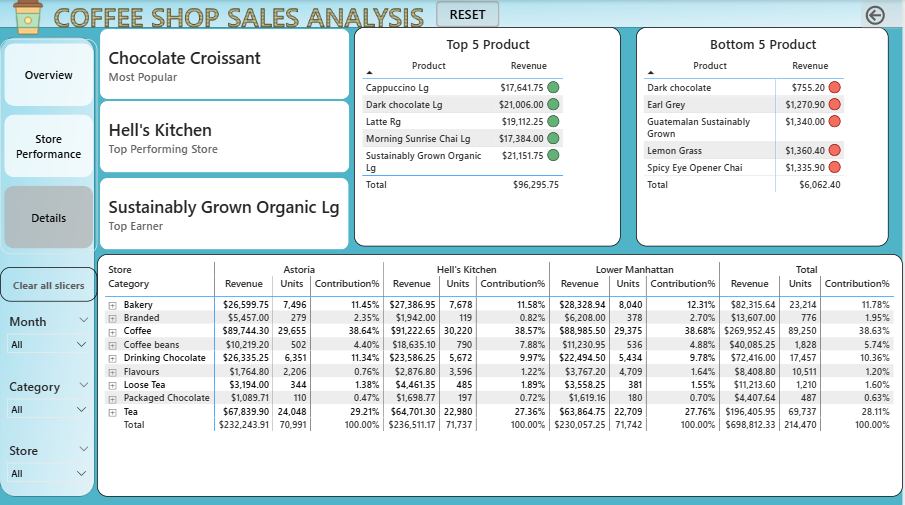

The dashboard page shown, as its layout file describes it:
{"tool":"powerbi","page":{"name":"Details","canvas":[1280,720],"ordinal":2},"visuals":[{"type":"tableEx","title":"Top 5 Product","fields":{"Values":["Product_Details.Product Detail","DAX Measure.Total Revenue"]},"box":[502.3,38.5,378.1,311.1],"z":0},{"type":"pivotTable","title":"Bottom 5 Product","fields":{"Rows":["Product_Details.Product Detail"],"Values":["DAX Measure.Total Revenue"]},"box":[901.9,38.5,358.2,311.1],"z":1000},{"type":"cardVisual","fields":{"Data":["DAX Measure.Top Earner"]},"box":[121.6,232.4,392,141.2],"z":2000},{"type":"cardVisual","fields":{"Data":["DAX Measure.Most Popular"]},"box":[121.6,21.5,393.3,139.4],"z":3000},{"type":"pivotTable","fields":{"Columns":["Store.Store Location"],"Rows":["Product_Details.Product Category","Product_Details.Product Detail"],"Values":["DAX Measure.Total Revenue","DAX Measure.Total QTY Sold","DAX Measure.Category Contribution %"]},"box":[137,359.6,1142,343.9],"z":4000},{"type":"cardVisual","fields":{"Data":["DAX Measure.Top Performing Store"]},"box":[121.6,123.4,393.3,141.2],"z":5000},{"type":"pageNavigator","box":[0,55.6,138,304.8],"z":6000},{"type":"slicer","fields":{"Values":["Date.Month Name"]},"box":[0,438.1,138.4,91.3],"z":7000},{"type":"slicer","fields":{"Values":["Product_Details.Product Category"]},"box":[0,529.4,138.4,91.3],"z":8000},{"type":"slicer","fields":{"Values":["Store.Store Location"]},"box":[0,620.7,138.4,91.3],"z":9000},{"type":"actionButton","box":[0,379,138,49],"z":10000},{"type":"actionButton","box":[1220.1,1.4,59.9,40],"z":11000},{"type":"actionButton","box":[617.9,1.4,89.9,37.1],"z":12000}]}

Visuals, with their boxes in screenshot pixels (x1, y1, x2, y2), scaled from the page's 1280x720 canvas onto the 905x505 screenshot:
"Top 5 Product" tableEx: (x1=355, y1=27, x2=622, y2=245)
"Bottom 5 Product" pivotTable: (x1=638, y1=27, x2=891, y2=245)
cardVisual - DAX Measure.Top Earner: (x1=86, y1=163, x2=363, y2=262)
cardVisual - DAX Measure.Most Popular: (x1=86, y1=15, x2=364, y2=113)
pivotTable - Store.Store Location x Product_Details.Product Category: (x1=97, y1=252, x2=904, y2=493)
cardVisual - DAX Measure.Top Performing Store: (x1=86, y1=87, x2=364, y2=186)
pageNavigator: (x1=0, y1=39, x2=98, y2=253)
slicer - Date.Month Name: (x1=0, y1=307, x2=98, y2=371)
slicer - Product_Details.Product Category: (x1=0, y1=371, x2=98, y2=435)
slicer - Store.Store Location: (x1=0, y1=435, x2=98, y2=499)
actionButton: (x1=0, y1=266, x2=98, y2=300)
actionButton: (x1=863, y1=1, x2=904, y2=29)
actionButton: (x1=437, y1=1, x2=500, y2=27)
